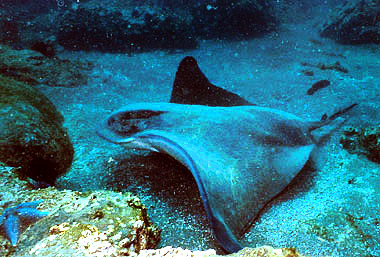Bat Ray: (77, 35, 369, 252)
